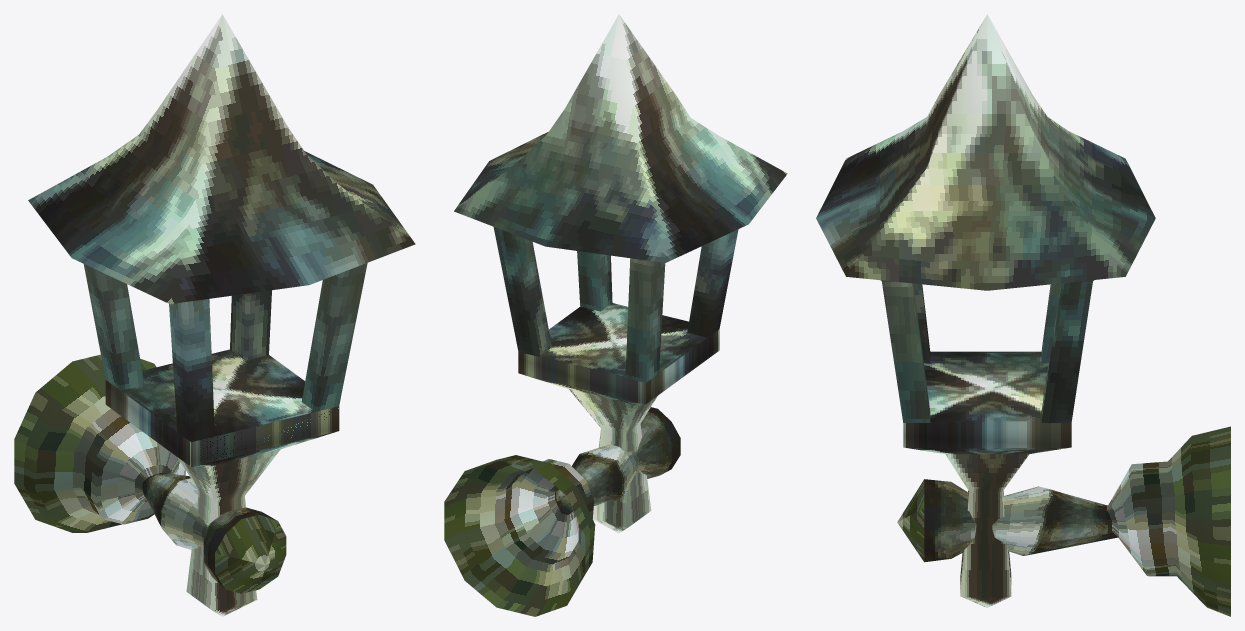
The model's file is a-lamp-1.glb.
3 views of the same model, side by side, from view 1: azimuth 30°, elevation 25°; view 2: azimuth 150°, elevation 25°; view 3: azimuth 270°, elevation 25° (orthographic). The views are drawn at different scales.
Parts seen in each view (by area): view 1: a_lamp_1; view 2: a_lamp_1; view 3: a_lamp_1.
Part boxes in pixels (x1,y1,x2,y2): a_lamp_1: [14, 14, 415, 616]; a_lamp_1: [444, 14, 787, 616]; a_lamp_1: [816, 14, 1230, 616].
Size of the model in its own units: 114 by 218 by 138.
Materials: 2 (2 with a texture image).
